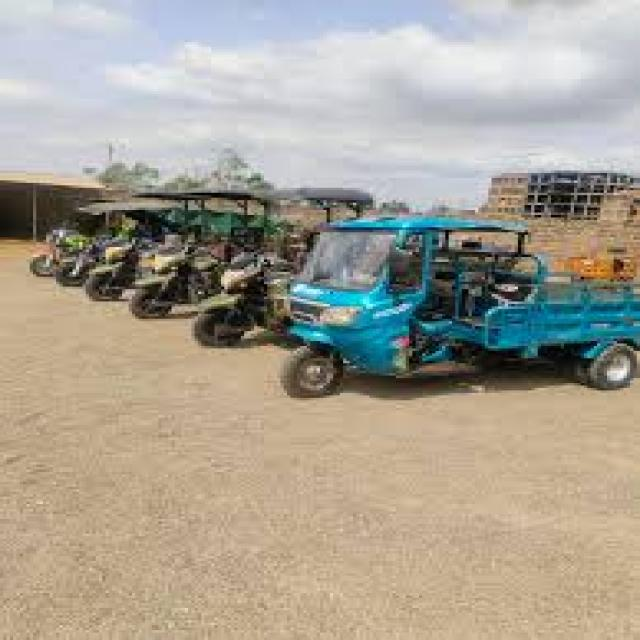tuktuk: (257, 147, 640, 471)
